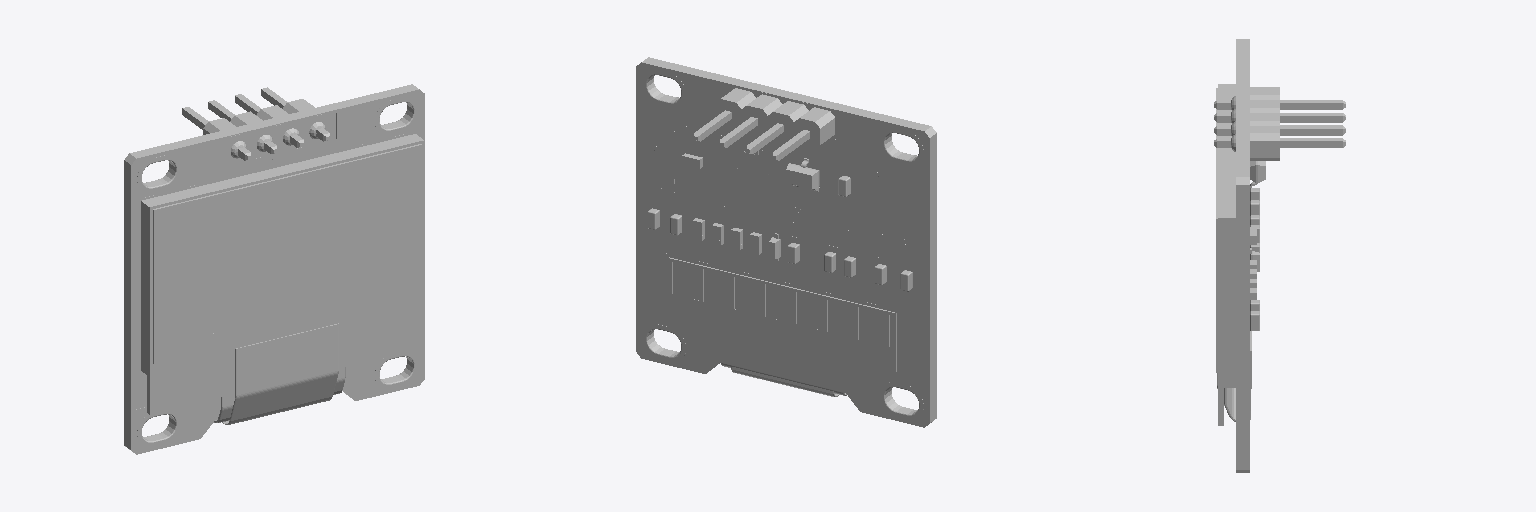
Rendered from Pantalla OLED 0.96'' 128x64.obj.
The picture shows the model from 3 angles: view 1: azimuth 30°, elevation 25°; view 2: azimuth 150°, elevation 25°; view 3: azimuth 270°, elevation 25°; orthographic projection.
Parts seen in each view (by area): view 1: Solid5, Solid4, Solid3, Solid2; view 2: Solid4, Solid2, Solid2:1; view 3: Solid4, Solid3, Solid2.
Boxes of the visible parts, x1,y1,x2,y2 form: Solid5: [153, 144, 422, 363]; Solid4: [124, 84, 424, 454]; Solid3: [141, 134, 423, 414]; Solid2: [203, 99, 314, 134]; Solid4: [636, 57, 936, 427]; Solid2: [715, 88, 834, 148]; Solid2:1: [786, 163, 819, 188]; Solid4: [1214, 39, 1345, 472]; Solid3: [1218, 84, 1235, 425]; Solid2: [1250, 87, 1279, 160].
Bounding box in the file's own units: 28.4 × 27.4 × 11.